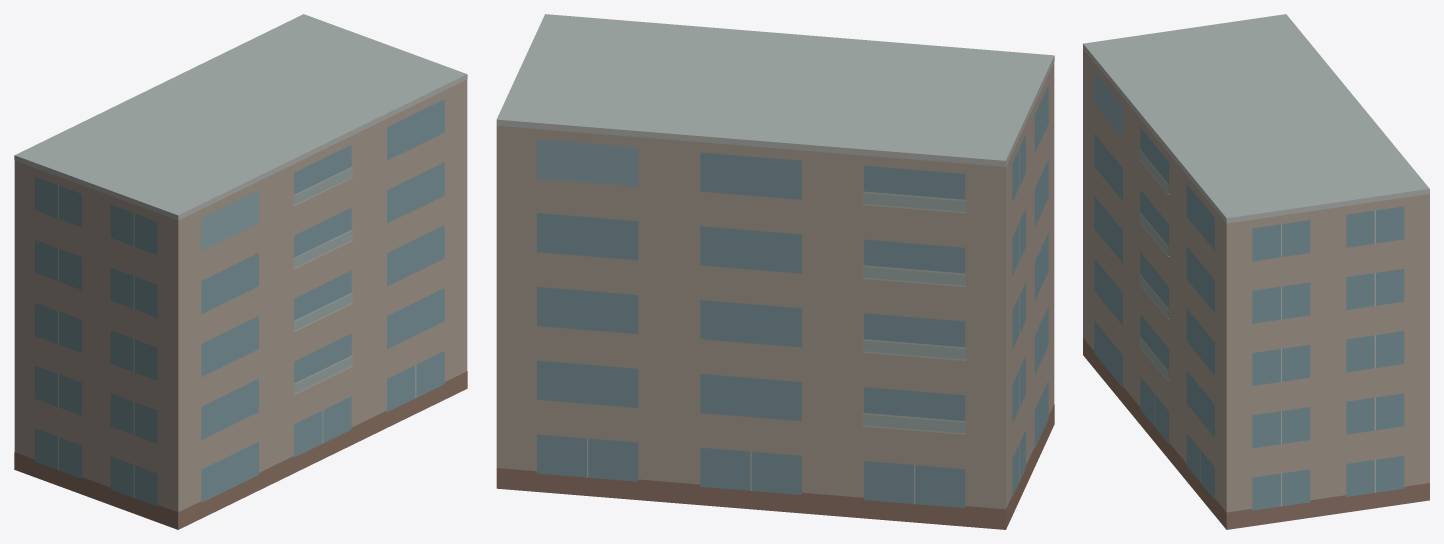
The model's file is survey-upis-32666345.glb.
3 renders of one model, left to right at view 1: azimuth 30°, elevation 25°; view 2: azimuth 150°, elevation 25°; view 3: azimuth 270°, elevation 25°, orthographic. The views are drawn at different scales.
Visible parts, largest first — view 1: survey-upis-32666345.tmp; view 2: survey-upis-32666345.tmp; view 3: survey-upis-32666345.tmp.
Part boxes in pixels (box(x1,y1,x2,y2)): survey-upis-32666345.tmp: box(14, 14, 467, 529); survey-upis-32666345.tmp: box(496, 14, 1054, 529); survey-upis-32666345.tmp: box(1083, 14, 1429, 529).
Bounding box in the file's own units: 20.9 × 14.85 × 14.99.
